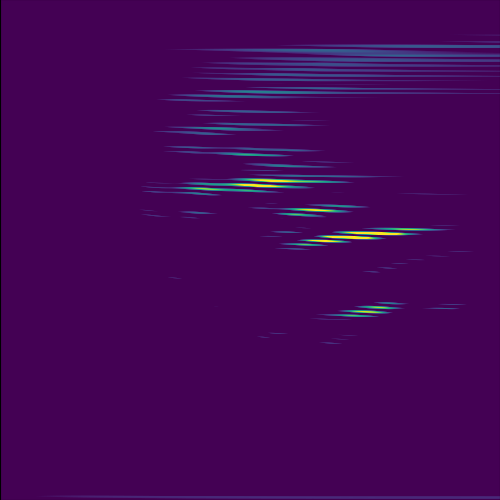semblance: (285, 219, 444, 249), (188, 176, 341, 195), (253, 200, 367, 222), (325, 295, 405, 322)
